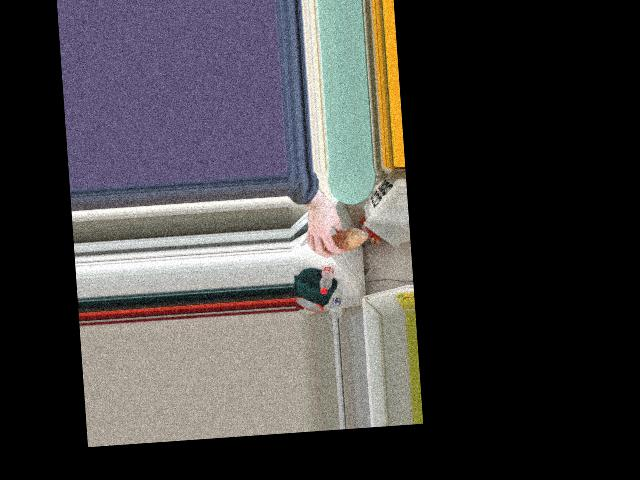sweet_potato: (317, 228, 367, 252)
